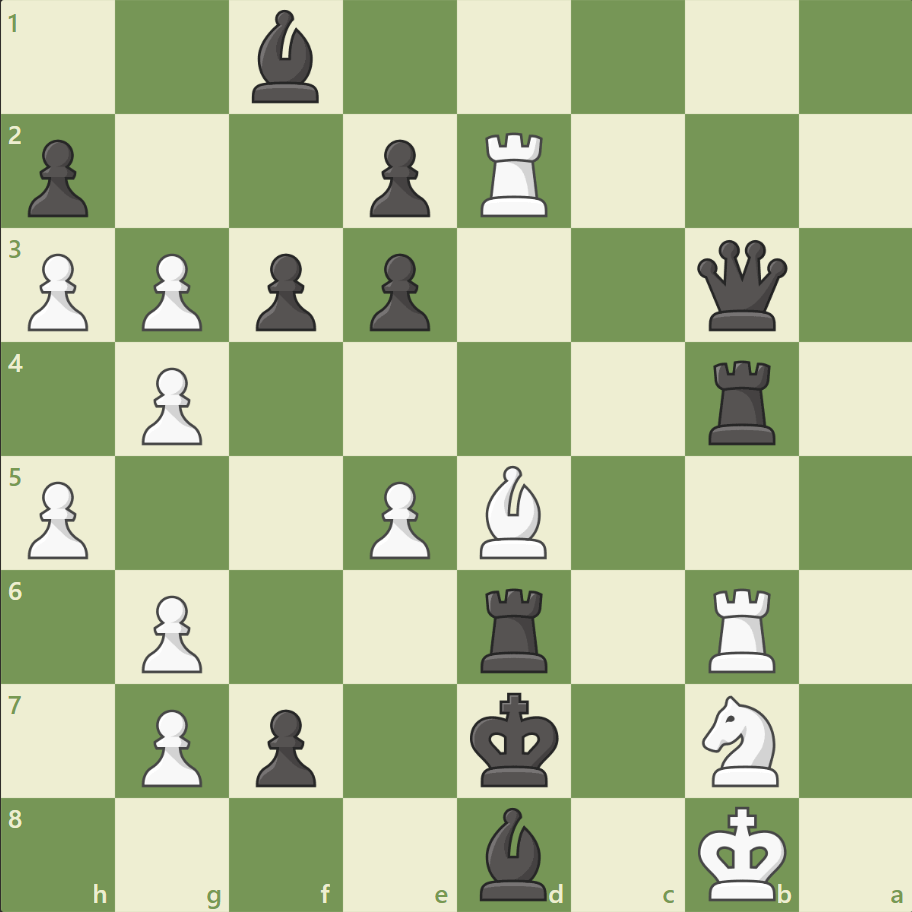B: (471, 460, 555, 563)
K: (692, 798, 792, 906)
N: (692, 688, 789, 791)
P: (133, 700, 208, 791), (133, 586, 208, 677), (20, 473, 95, 564), (133, 359, 208, 450), (133, 246, 208, 337), (20, 246, 95, 337), (361, 473, 435, 564)
R: (700, 579, 783, 676), (473, 125, 556, 222)
b: (471, 801, 555, 904), (244, 6, 328, 109)
k: (465, 685, 565, 793)
p: (247, 700, 322, 791), (247, 246, 322, 337), (20, 132, 95, 223), (361, 246, 435, 337), (361, 132, 435, 223)
q: (691, 236, 790, 335)
r: (473, 579, 556, 676), (700, 352, 783, 449)
